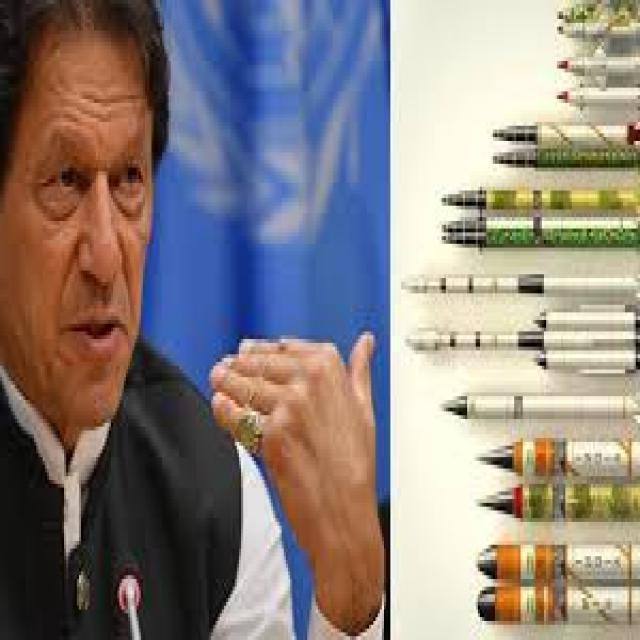Missile: (437, 388, 640, 432), (431, 183, 640, 218), (469, 483, 640, 524)
